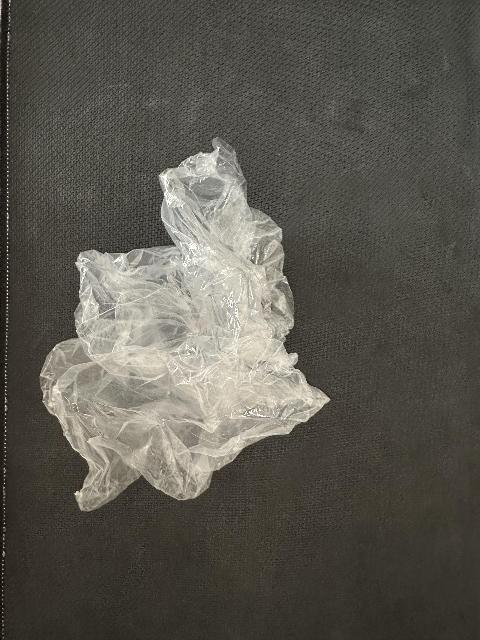Plastik: (59, 152, 335, 503)
